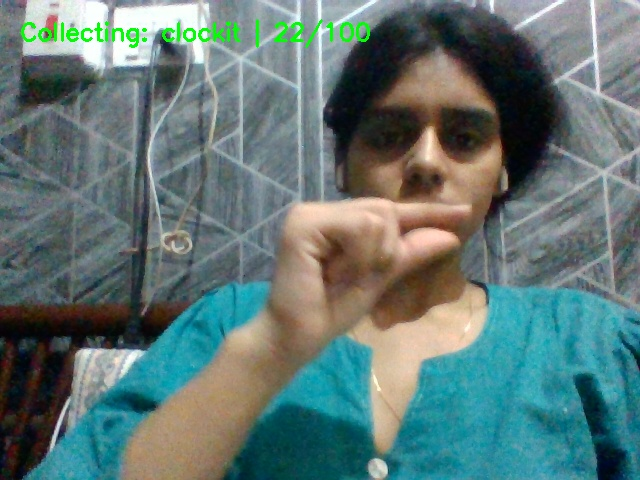clockit: (251, 169, 515, 367)
